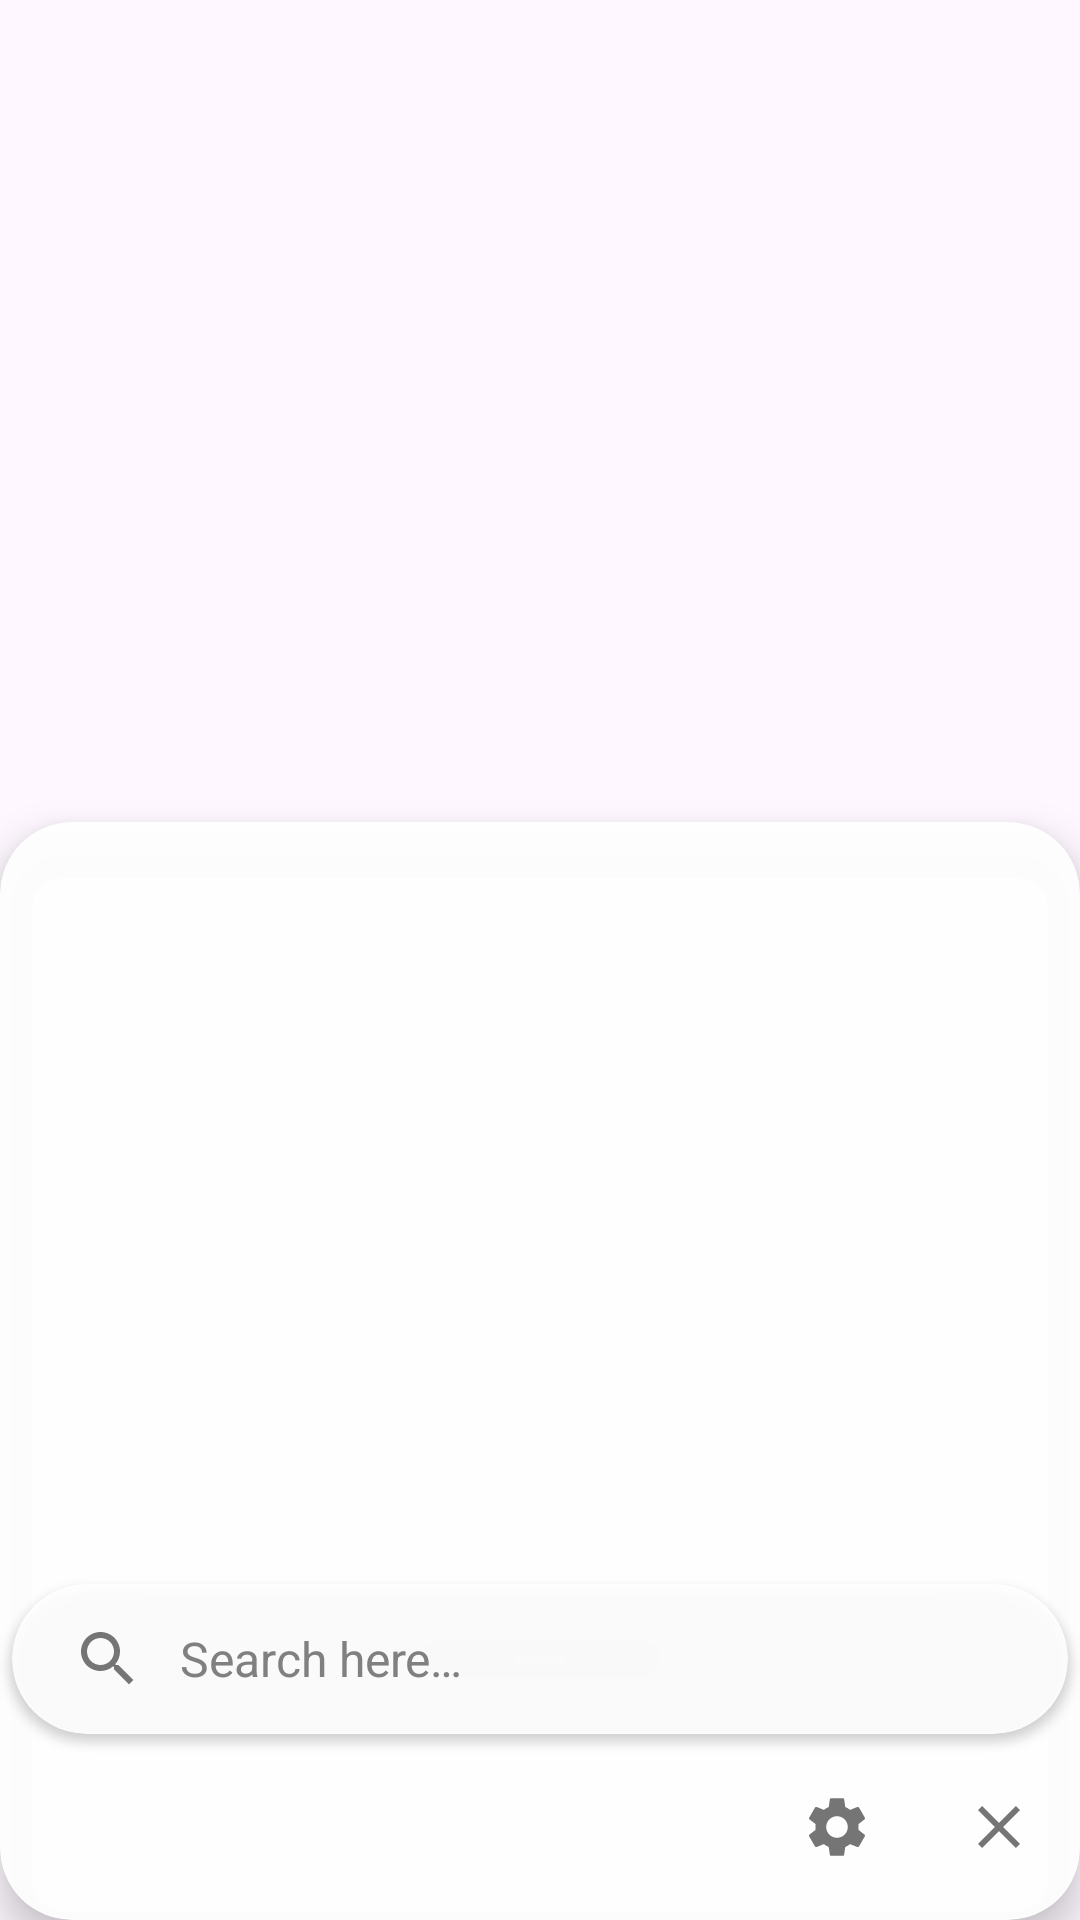

Screen size 1080 x 1920. Icon name, then its center in pixels as (x=x, y=y):
Close: (x=999, y=1827)
Settings: (x=837, y=1827)
